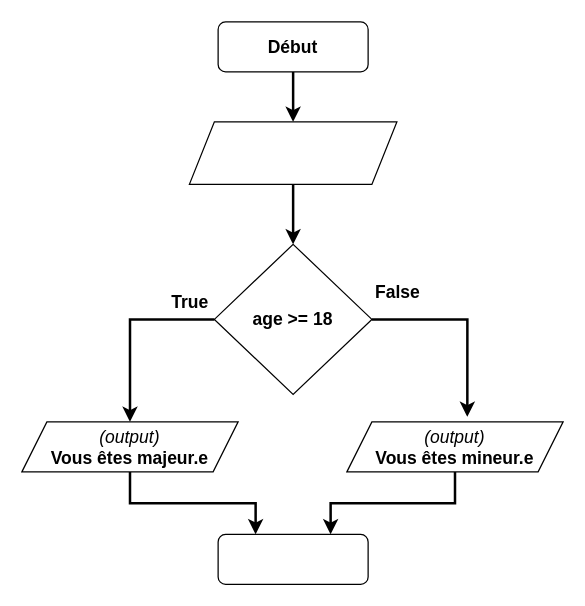
Some shapes in this 585 by 606 pixel diagram are drawn without their labels. Each missing label, with the centre of its shape:
(input) votre âge : age: (x=292, y=152)
Fin: (x=292, y=558)
